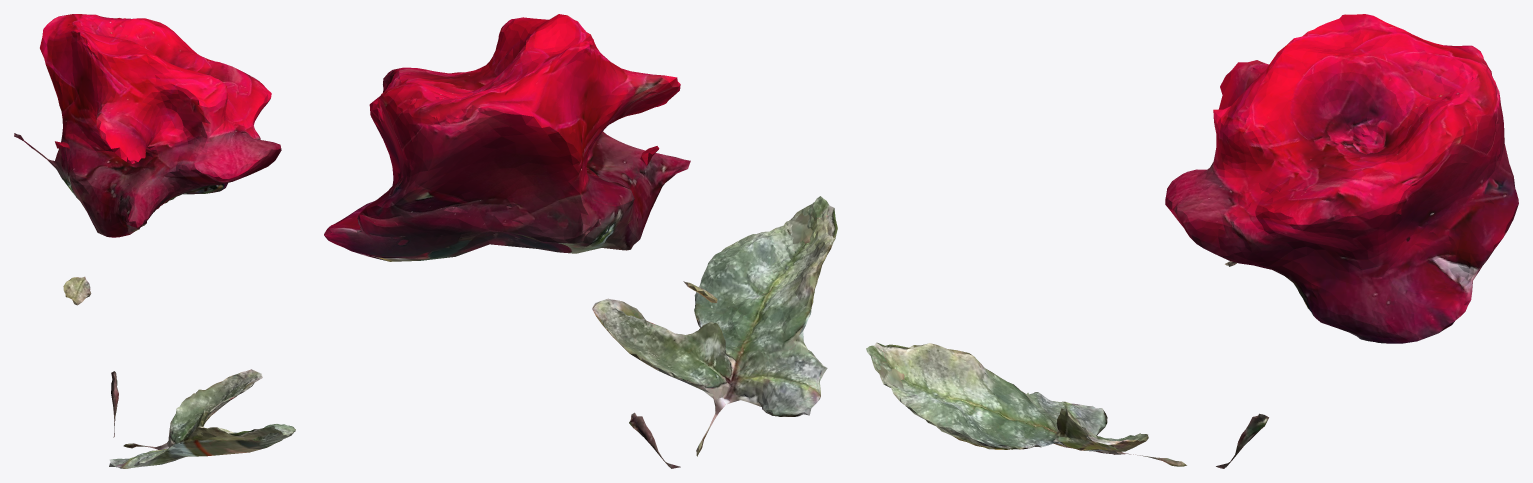
File: red.obj
The picture shows the model from 3 angles, left to right: view 1: azimuth 30°, elevation 25°; view 2: azimuth 150°, elevation 25°; view 3: azimuth 270°, elevation 25°; orthographic projection. The views are drawn at different scales.
Visible parts, largest first — view 1: Mesh_0; view 2: Mesh_0; view 3: Mesh_0.
Part boxes in pixels (left/top/right/bottom): Mesh_0: left=14, top=14, right=295, bottom=468; Mesh_0: left=324, top=14, right=837, bottom=468; Mesh_0: left=866, top=14, right=1518, bottom=468.
Size of the model in its own units: 0.1092 by 0.154 by 0.1947.
1 material, 1 textured.
